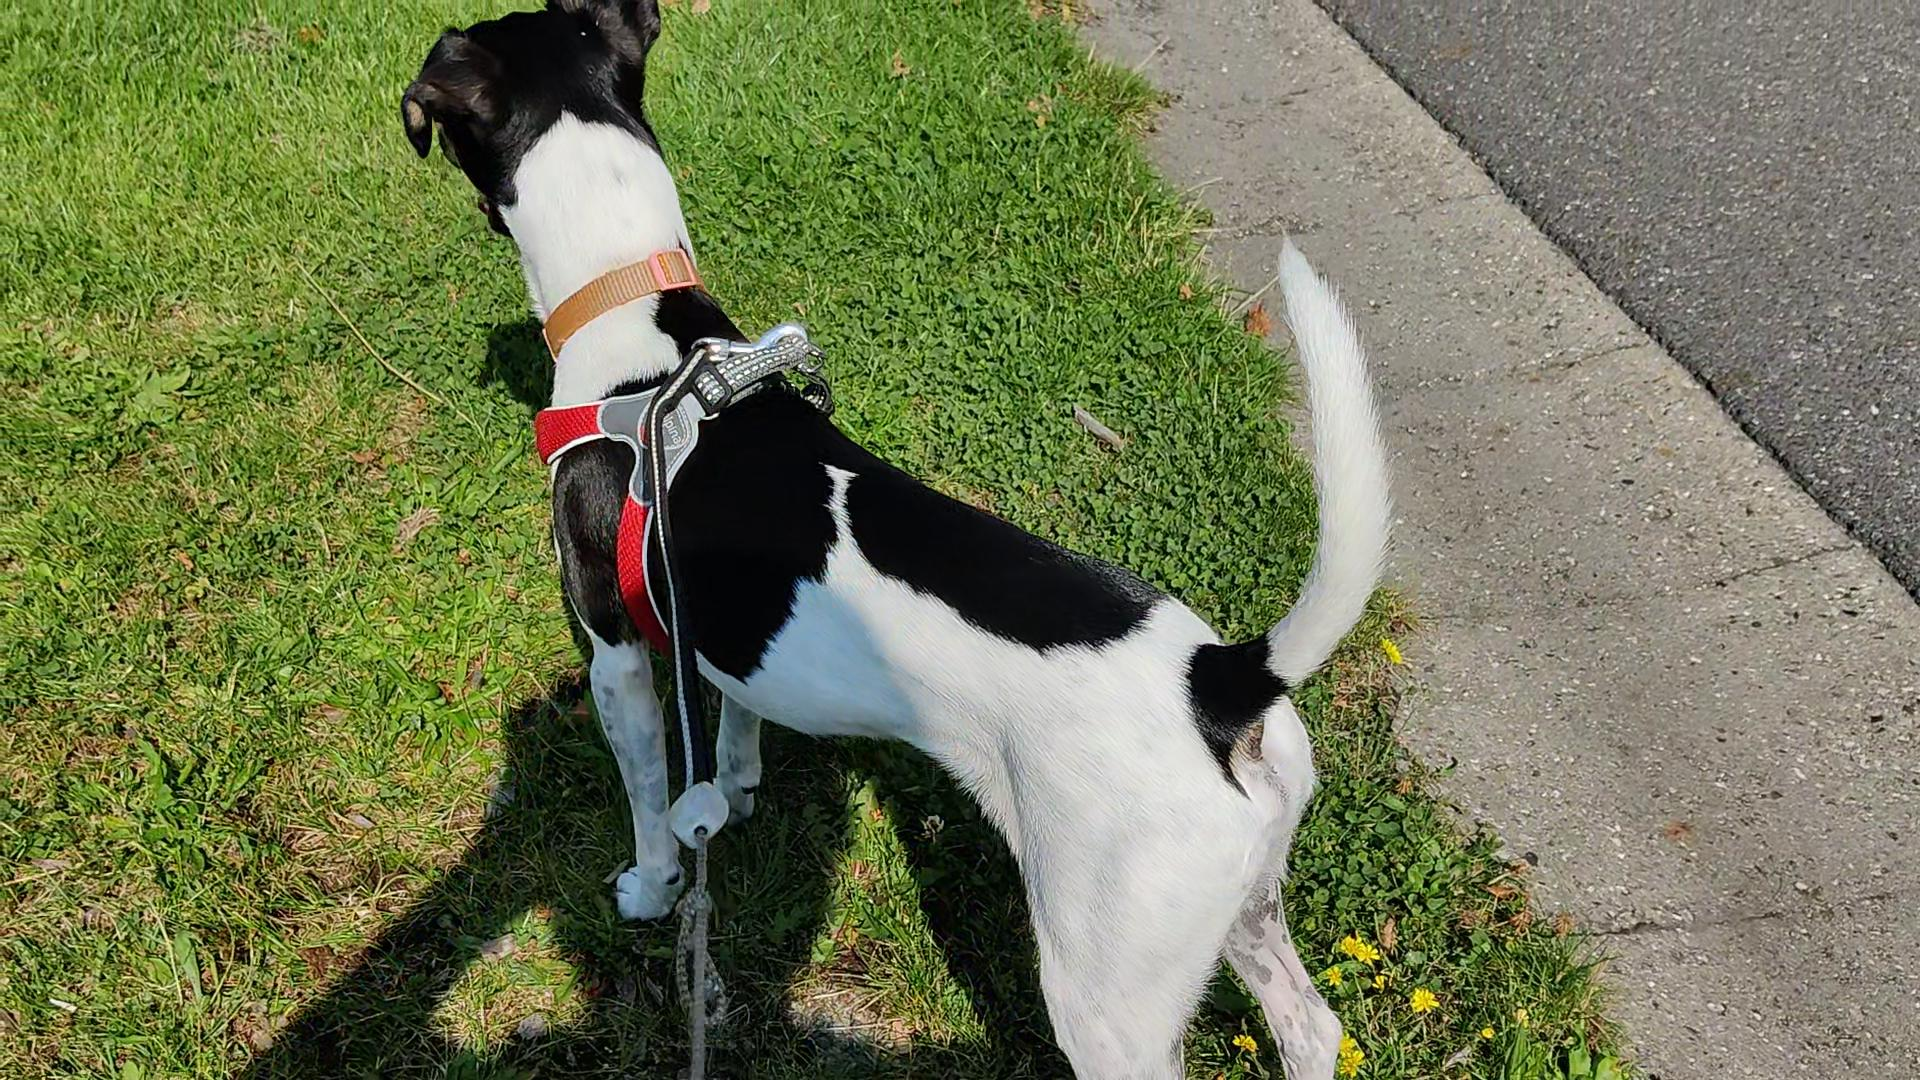Dog: (396, 0, 1406, 1079)
